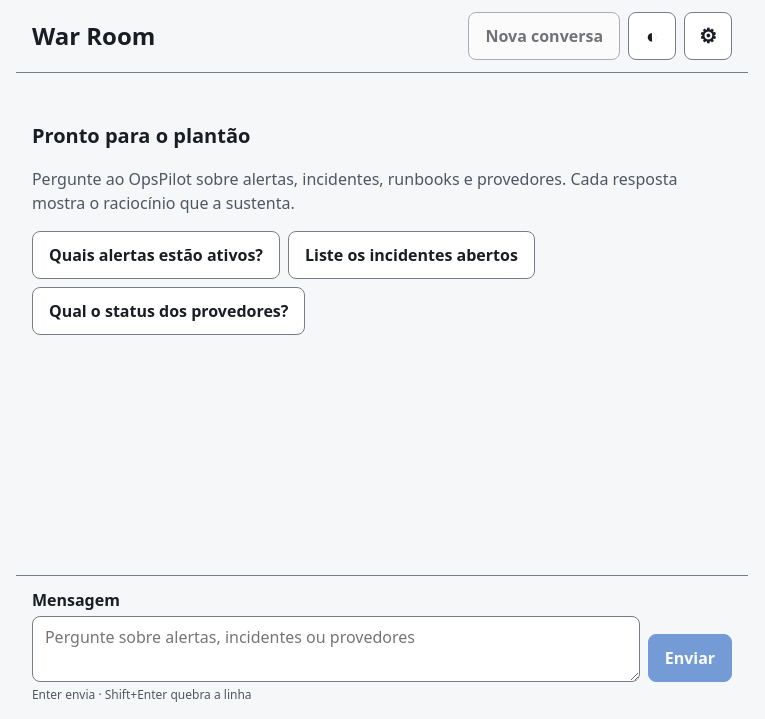
Test case: model text is rendered as text, never as markup
The width and height of the screenshot is (765, 719).
In the text box labelled "Mensagem": point(336, 649) x1=32 y1=616 x2=640 y2=682, type "oi"
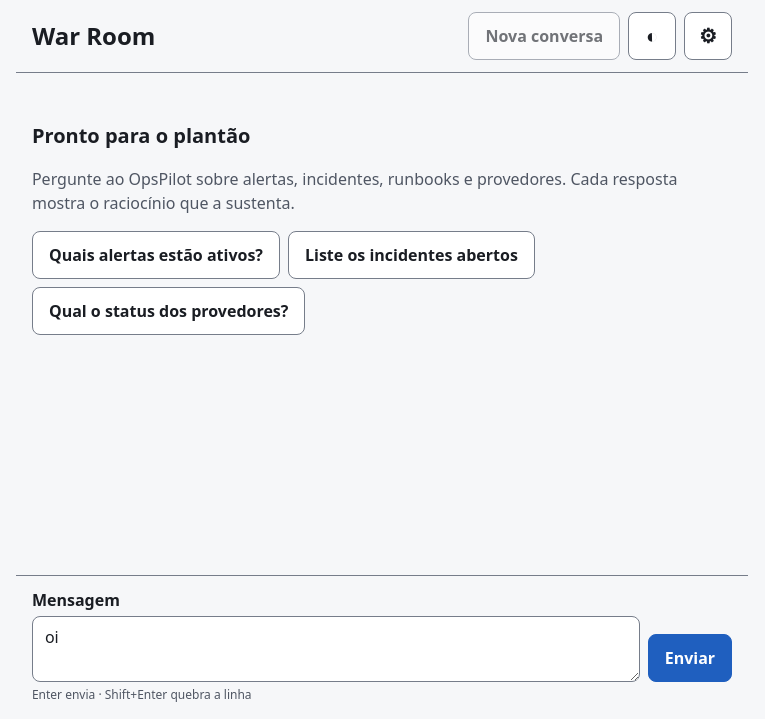
Click the button "Enviar": point(690, 658) x1=648 y1=634 x2=732 y2=682
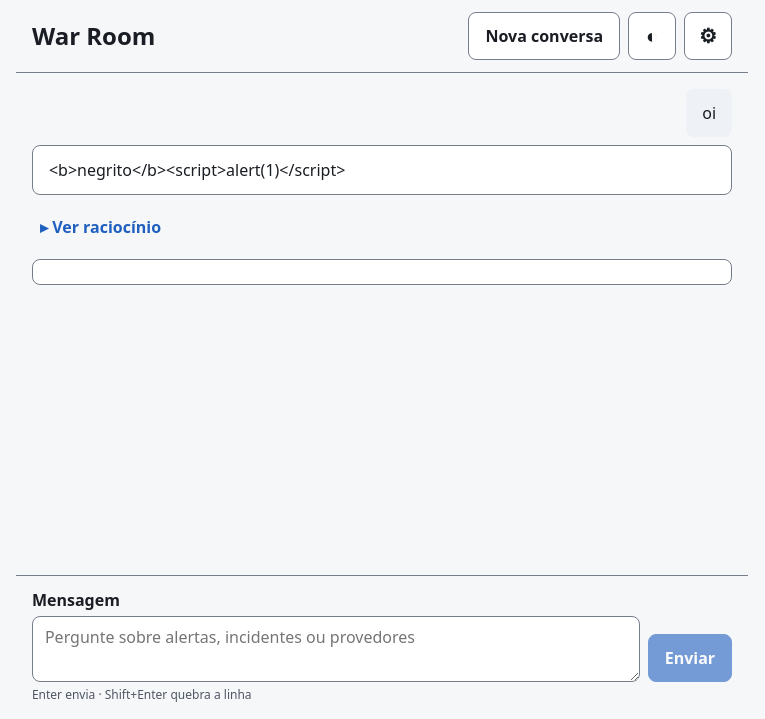
Expected: the text "<b>negrito</b><script>alert(1)</script>" is shown, x1=49 y1=159 x2=345 y2=181
